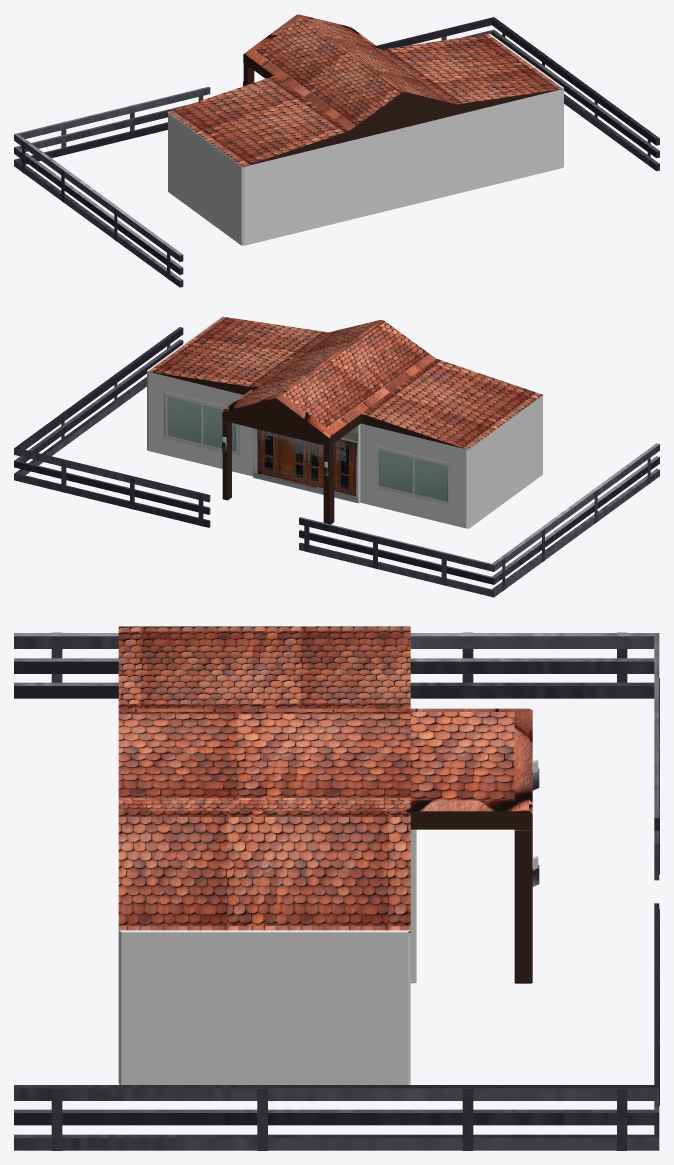
Rendered from Home_4.fbx.
3 renders of one model, top to bottom at view 1: azimuth 30°, elevation 25°; view 2: azimuth 150°, elevation 25°; view 3: azimuth 270°, elevation 25°, orthographic. The views are drawn at different scales.
Parts seen in each view (by area): view 1: Cube, Cube.001, ลูกบาศก์.001, ลูกบาศก์.009; view 2: Cube.001, Cube, ลูกบาศก์.001, ลูกบาศก์.009; view 3: Cube.001, Cube, ลูกบาศก์.009, ลูกบาศก์.001.
Part boxes in pixels (x1,y1,x2,y2): Cube: (168,34,563,245); Cube.001: (167,14,564,166); ลูกบาศก์.001: (14,86,210,287); ลูกบาศก์.009: (377,17,659,171); Cube.001: (146,316,543,524); Cube: (147,316,542,528); ลูกบาศก์.001: (299,443,659,597); ลูกบาศก์.009: (14,327,210,527); Cube.001: (118,626,532,983); Cube: (118,626,416,1084); ลูกบาศก์.009: (14,903,659,1150); ลูกบาศก์.001: (14,632,659,880).
Bounding box in the file's own units: 1843 × 420 × 1103.
Materials: 8 (6 with a texture image).
